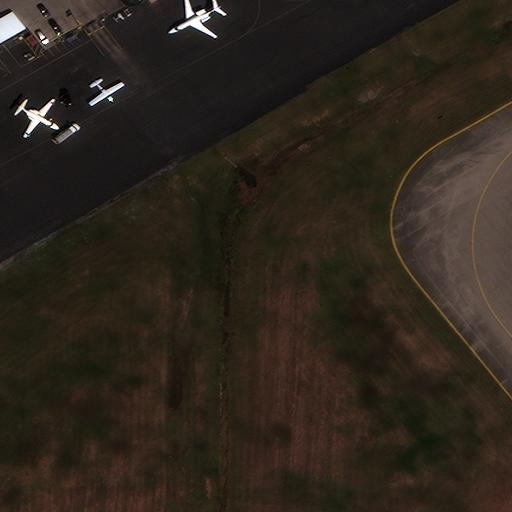Medium Civil Transport: (167, 0, 222, 39)
Small Civil Transport: (17, 99, 58, 137), (91, 80, 125, 106)
